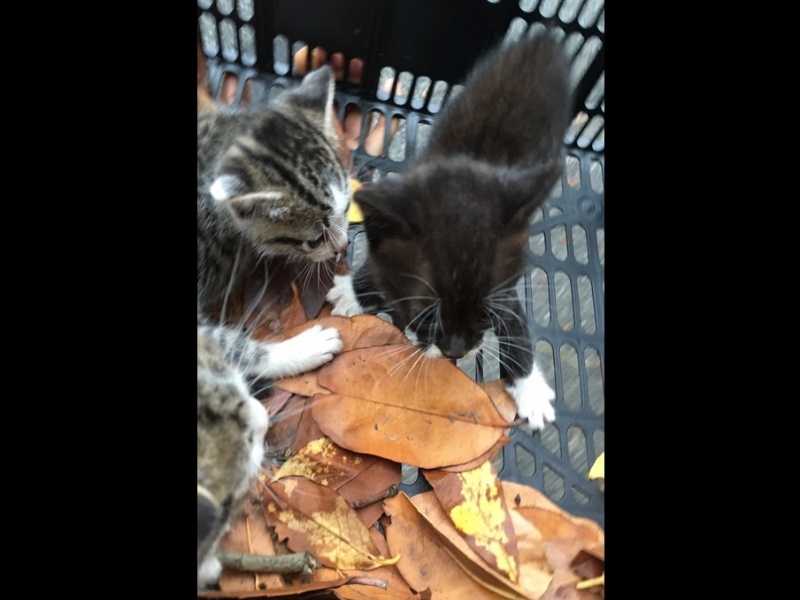cat: (331, 30, 568, 431), (200, 308, 343, 585), (197, 62, 350, 305)
